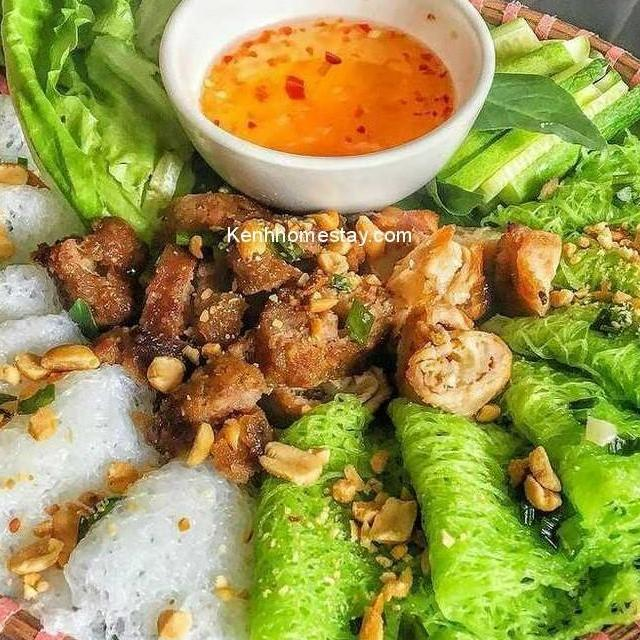banh hoi: (233, 381, 501, 640), (380, 378, 640, 640), (0, 344, 187, 640), (23, 434, 269, 640), (487, 345, 640, 581), (464, 119, 640, 318), (474, 282, 640, 466), (0, 303, 104, 492), (534, 225, 640, 369), (0, 174, 106, 296), (0, 247, 65, 382)
